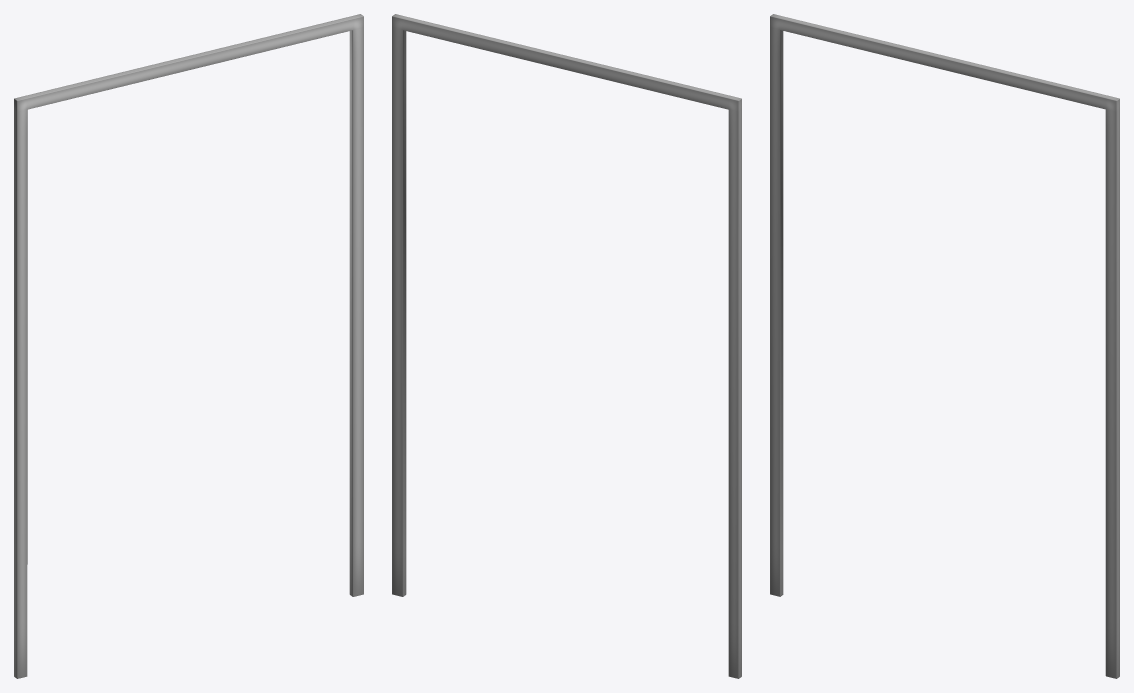
File: DoorFrameLight02_6.FBX
3 views of the same model, side by side, from view 1: azimuth 30°, elevation 25°; view 2: azimuth 150°, elevation 25°; view 3: azimuth 330°, elevation 25° (orthographic).
Parts seen in each view (by area): view 1: Light02_1; view 2: Light02_1; view 3: Light02_1.
Part boxes in pixels (left/top/right/bottom): Light02_1: left=14, top=14, right=363, bottom=678; Light02_1: left=392, top=14, right=741, bottom=678; Light02_1: left=770, top=14, right=1119, bottom=678.
Bounding box in the file's own units: 160 × 255 × 2.61.
